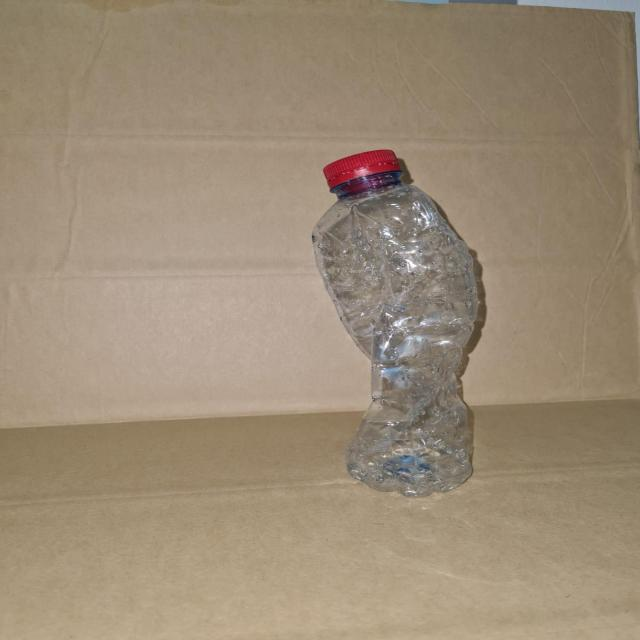bottle: (303, 142, 491, 492)
